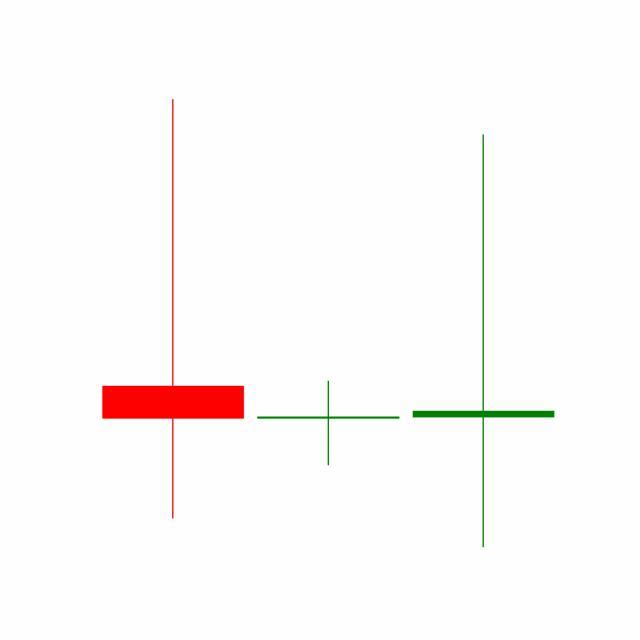Spinning Top: (250, 381, 407, 468)
